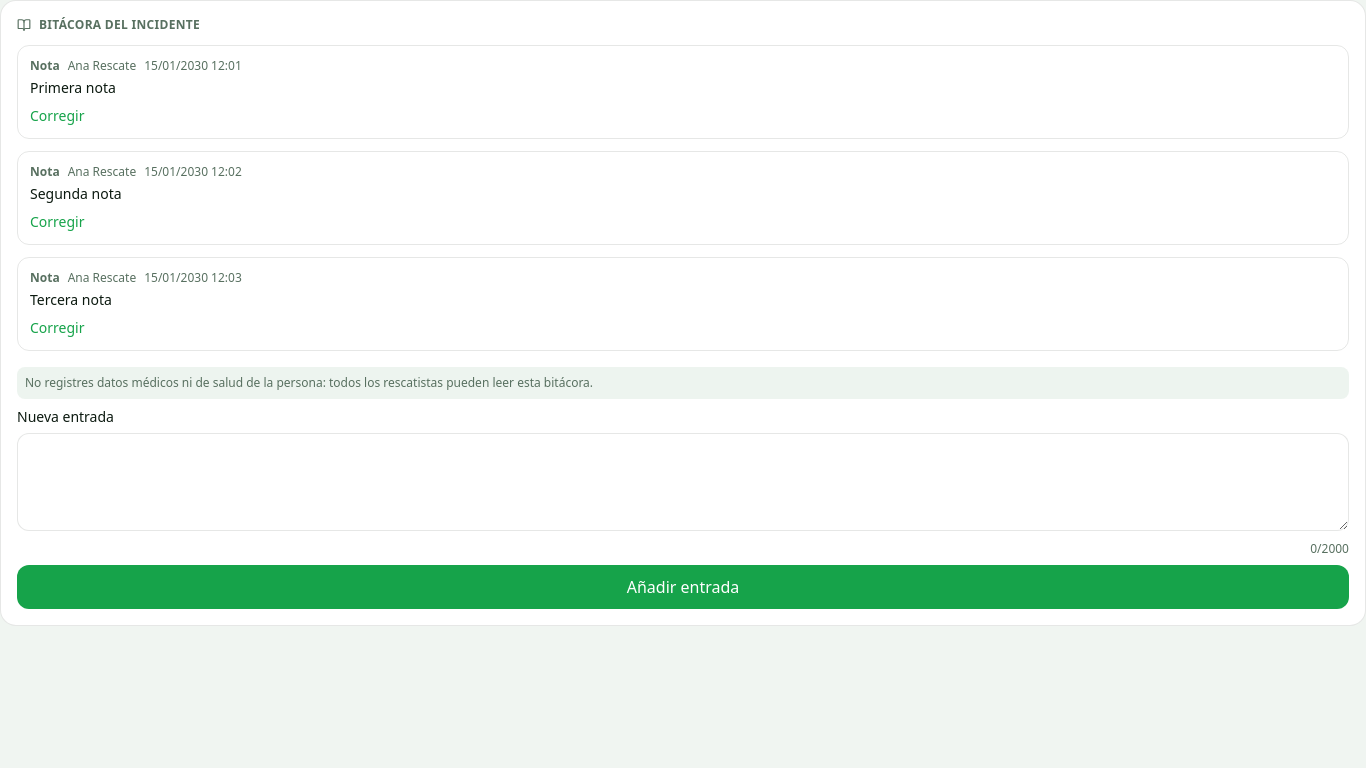
Test case: BitacoraIncidente (HU-41) › 403 NO_ES_RESPONSABLE avisa, llama a alCambiarResponsable y oculta el formulario tras la recarga
Type "Tarde" into the text box labelled "Nueva entrada". click: [683, 482]
box: [17, 433, 1349, 531]
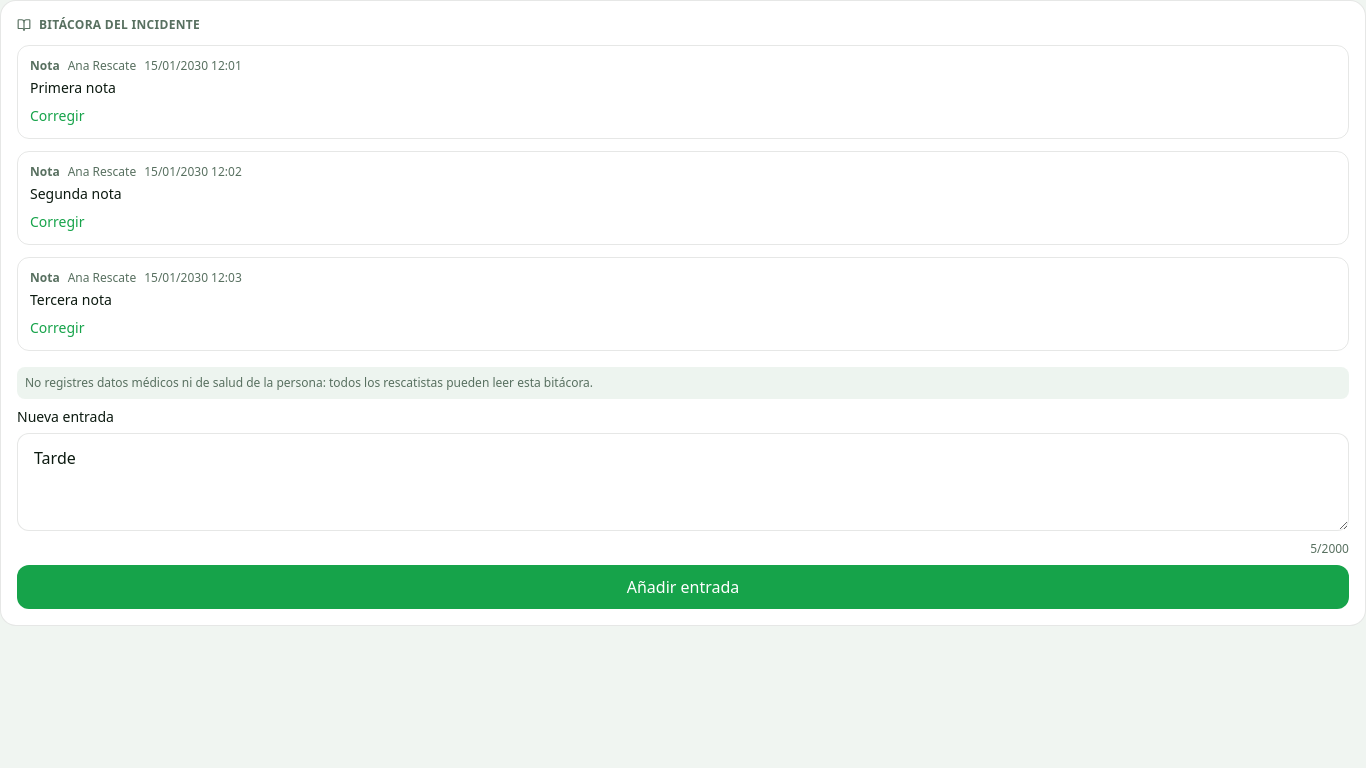
Click the button "Añadir entrada". click: [683, 587]
box: [17, 565, 1349, 609]
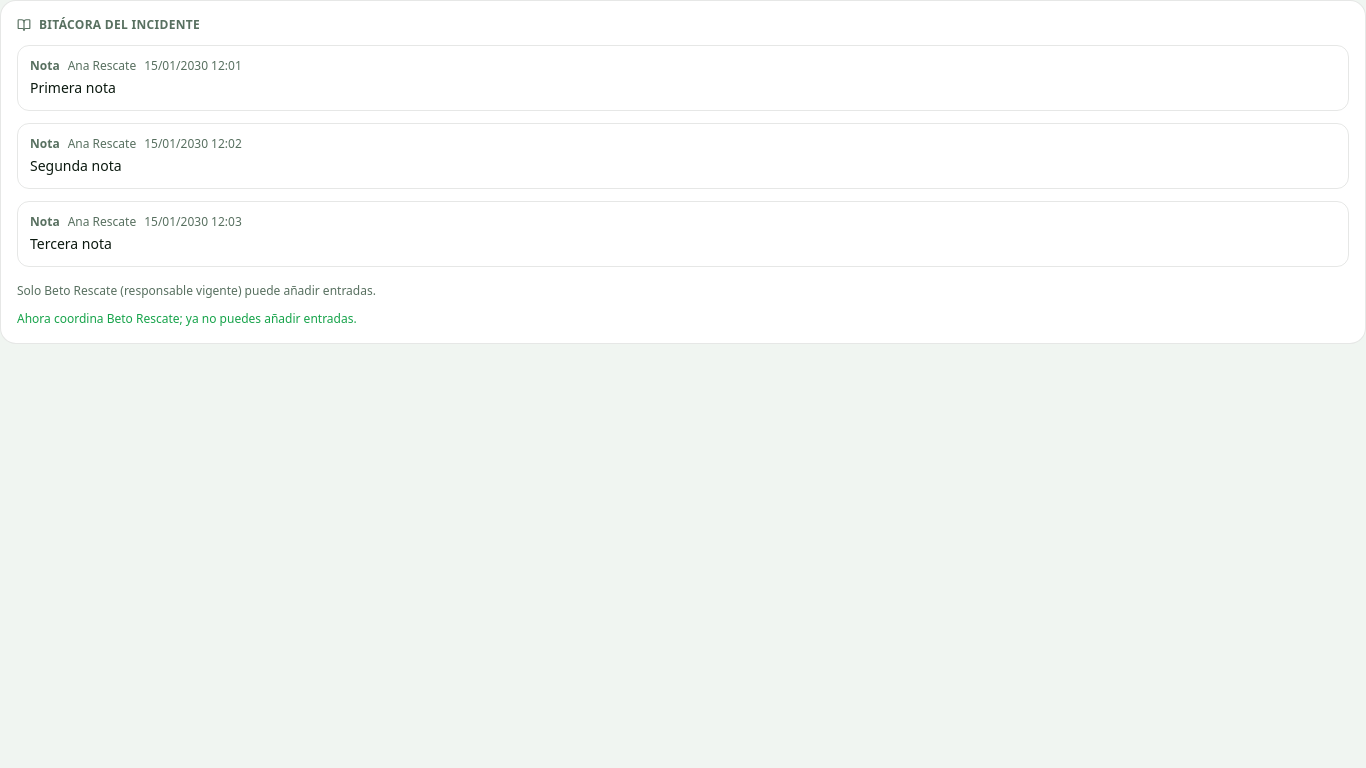
Expected: the text "Ahora coordina Beto Rescate; ya no puedes añadir entradas." is shown, [17, 310, 357, 327]
